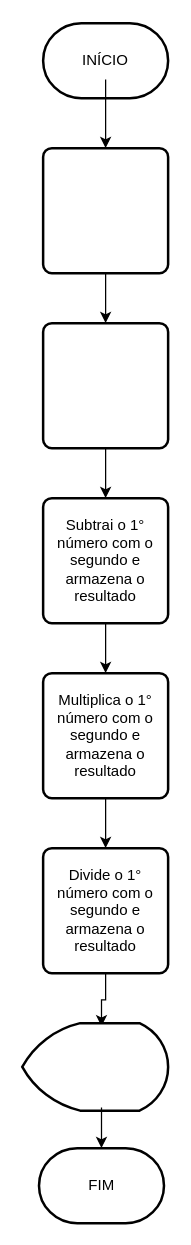
The diagram is 191 pixels wide and 1245 high, and some of its shapes have lost their labels. Each missing label, with the box of its shape:
Exibe o resultado das operações armazenadas: (20, 1021, 169, 1111)
Recebe o 1° número e o 2° número: (41, 146, 169, 274)
Soma o 1° número com o segundo e armazena o resultado: (41, 321, 169, 449)
